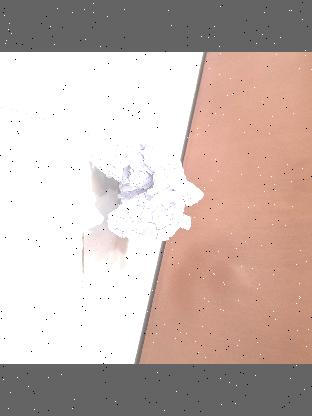Others: (88, 137, 204, 245)
